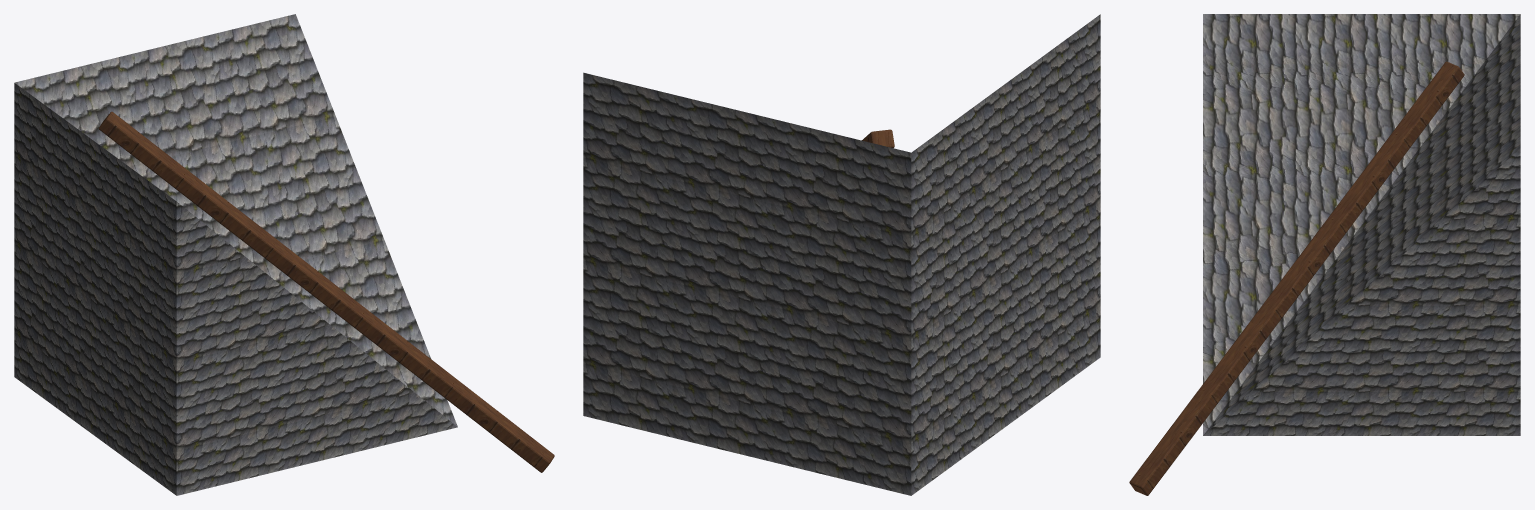
The model's file is roof_45_inner__cut_stone.glb.
3 renders of one model, left to right at view 1: azimuth 30°, elevation 25°; view 2: azimuth 150°, elevation 25°; view 3: azimuth 270°, elevation 25°, orthographic. The views are drawn at different scales.
Visible parts, largest first — view 1: model; view 2: model; view 3: model.
Part boxes in pixels (box(x1,y1,x2,y2)): model: box(14, 14, 554, 495); model: box(583, 14, 1100, 495); model: box(1129, 14, 1520, 495).
Bounding box in the file's own units: 2.46 × 2.22 × 2.46.
Materials: 2 (2 with a texture image).
